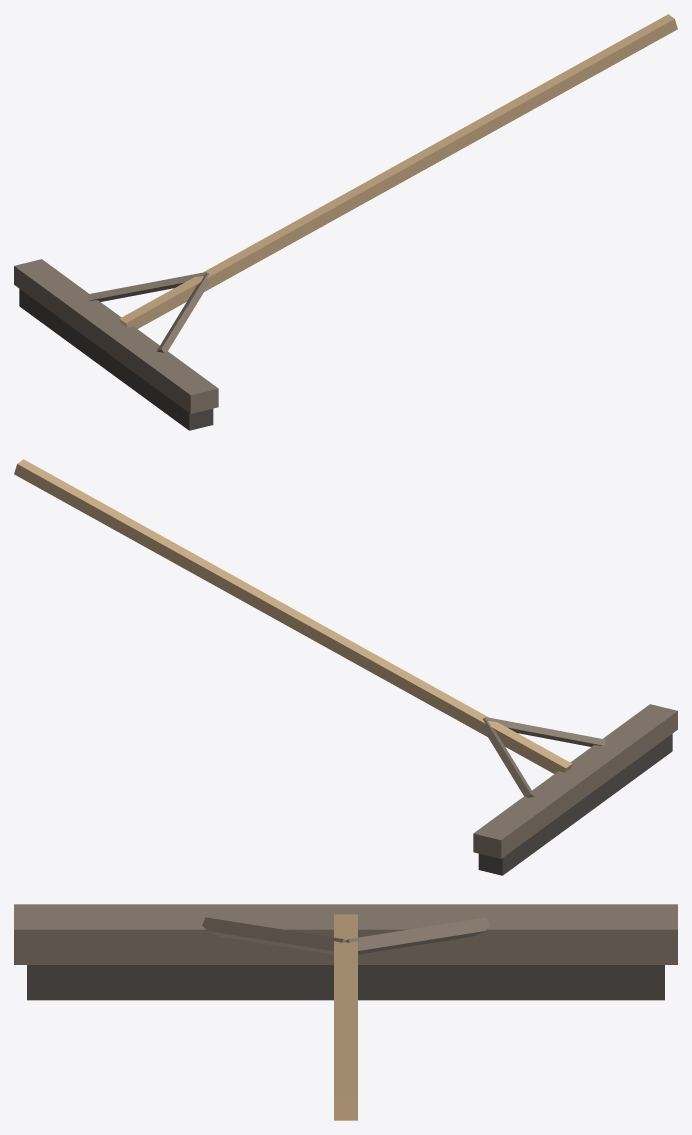
File: dm_pushbroom.glb
The picture shows the model from 3 angles, top to bottom: view 1: azimuth 30°, elevation 25°; view 2: azimuth 150°, elevation 25°; view 3: azimuth 270°, elevation 25°; orthographic projection. The views are drawn at different scales.
Visible parts, largest first — view 1: dm_pushbroom; view 2: dm_pushbroom; view 3: dm_pushbroom.
Boxes of the visible parts, x1=… form: dm_pushbroom: x1=14, y1=14, x2=677, y2=430; dm_pushbroom: x1=14, y1=459, x2=677, y2=875; dm_pushbroom: x1=14, y1=904, x2=677, y2=1120.
Size of the model in its own units: 1.44 by 0.5134 by 0.77.
